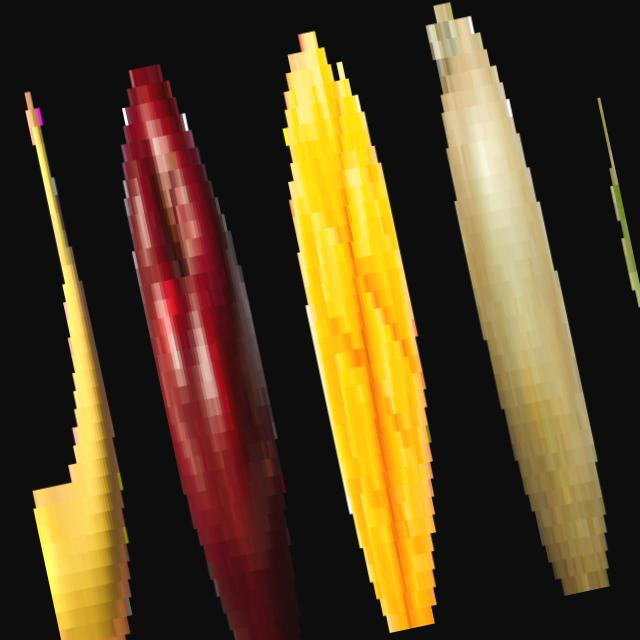apple: (85, 37, 328, 640)
bananas: (0, 86, 172, 640)
kiwifruit: (397, 0, 632, 602)
mango: (243, 5, 480, 636)
